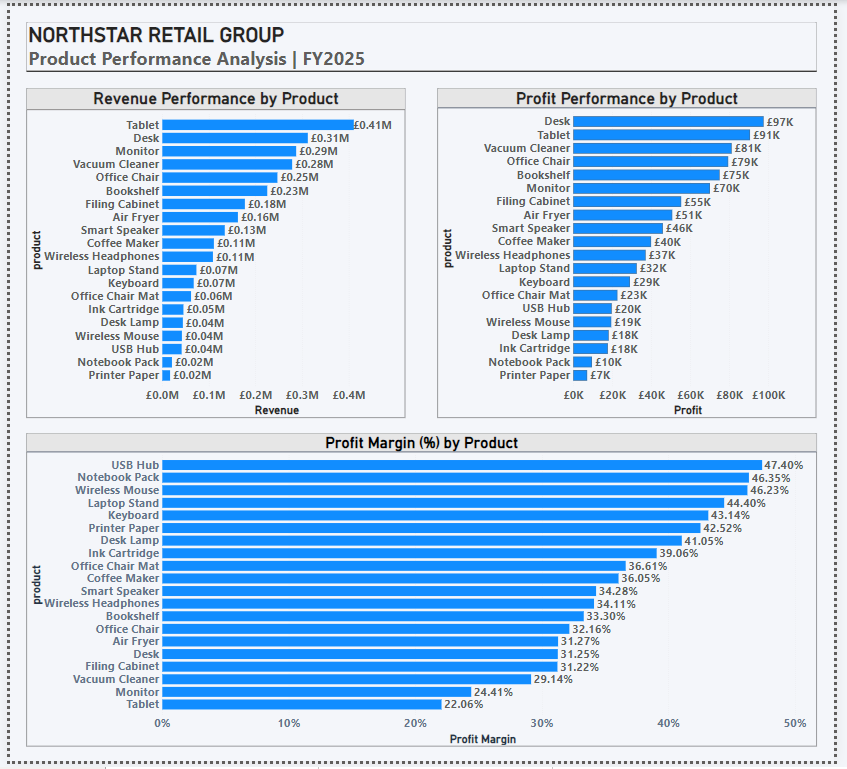

The page's visual inventory and layout, read from the dashboard file:
{"tool":"powerbi","page":{"name":"Product Performance","canvas":[2400,2200],"ordinal":1},"visuals":[{"type":"clusteredBarChart","title":"Profit Margin (%) by Product","fields":{"Category":["sales.product"],"Y":["sales.Profit Margin"]},"box":[48,1248,2304,912],"z":0},{"type":"textbox","title":"NORTHSTAR RETAIL GROUP","box":[48,48,2304,144],"z":4000},{"type":"clusteredBarChart","title":"Profit Performance by Product","fields":{"Category":["sales.product"],"Y":["sales.Total Profit"]},"box":[1248,240,1104,960],"z":5000},{"type":"clusteredBarChart","title":"Revenue Performance by Product","fields":{"Category":["sales.product"],"Y":["sales.Total Revenue"]},"box":[48,240,1104,960],"z":6000}]}

Visuals, with their boxes in screenshot pixels (x1, y1, x2, y2), scaled from the page's 2400x2200 canvas onto the 847x769 screenshot:
"Profit Margin (%) by Product" clusteredBarChart: [17, 436, 830, 755]
"NORTHSTAR RETAIL GROUP" textbox: [17, 17, 830, 67]
"Profit Performance by Product" clusteredBarChart: [440, 84, 830, 419]
"Revenue Performance by Product" clusteredBarChart: [17, 84, 407, 419]
